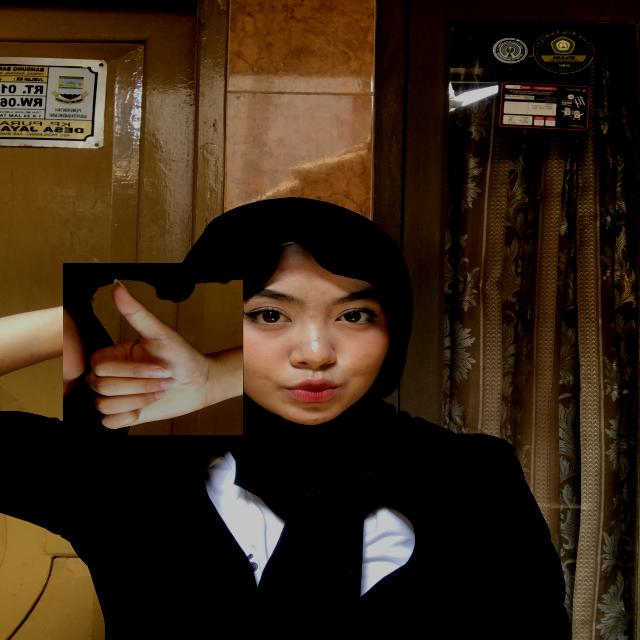sedih: (64, 264, 245, 438)
